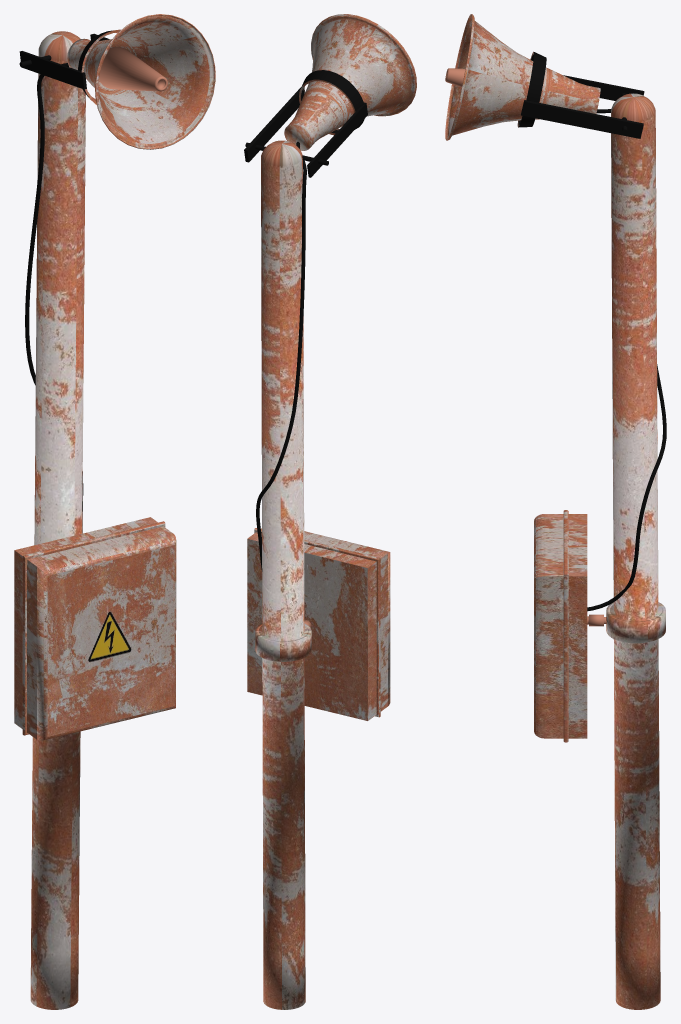
Rendered from kjdthgmortsfunki.glb.
3 views of the same model, side by side, from view 1: azimuth 30°, elevation 25°; view 2: azimuth 150°, elevation 25°; view 3: azimuth 270°, elevation 25° (orthographic). The views are drawn at different scales.
Visible parts, largest first — view 1: pfosten; view 2: pfosten; view 3: pfosten.
Part boxes in pixels (x1,y1,x2,y2): pfosten: [14, 14, 215, 1009]; pfosten: [244, 14, 416, 1009]; pfosten: [445, 14, 666, 1009].
Bounding box in the file's own units: 0.3578 × 2.54 × 0.5184.
4 materials, 3 textured.
